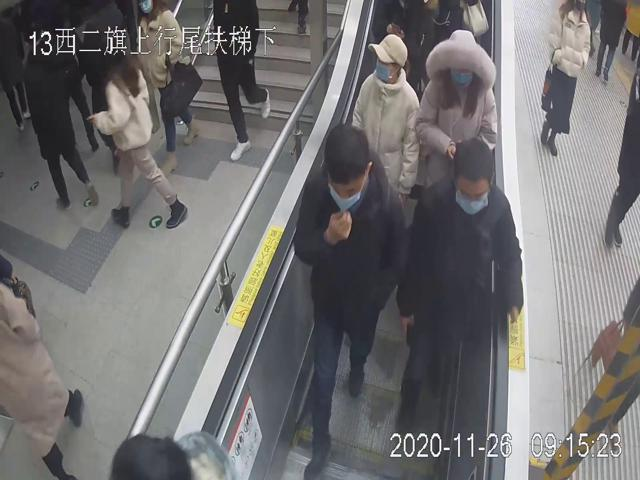person: (395, 136, 521, 451), (293, 121, 403, 479), (416, 25, 498, 203), (349, 31, 420, 210)
